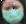with_mask: (1, 1, 26, 24)
